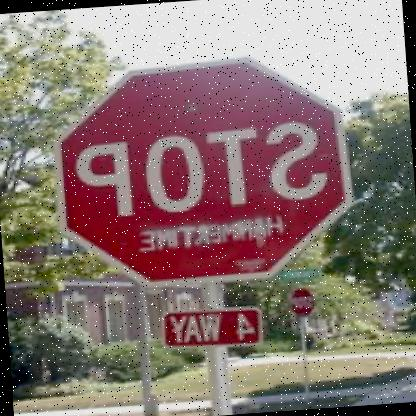stop: (43, 46, 367, 296)
